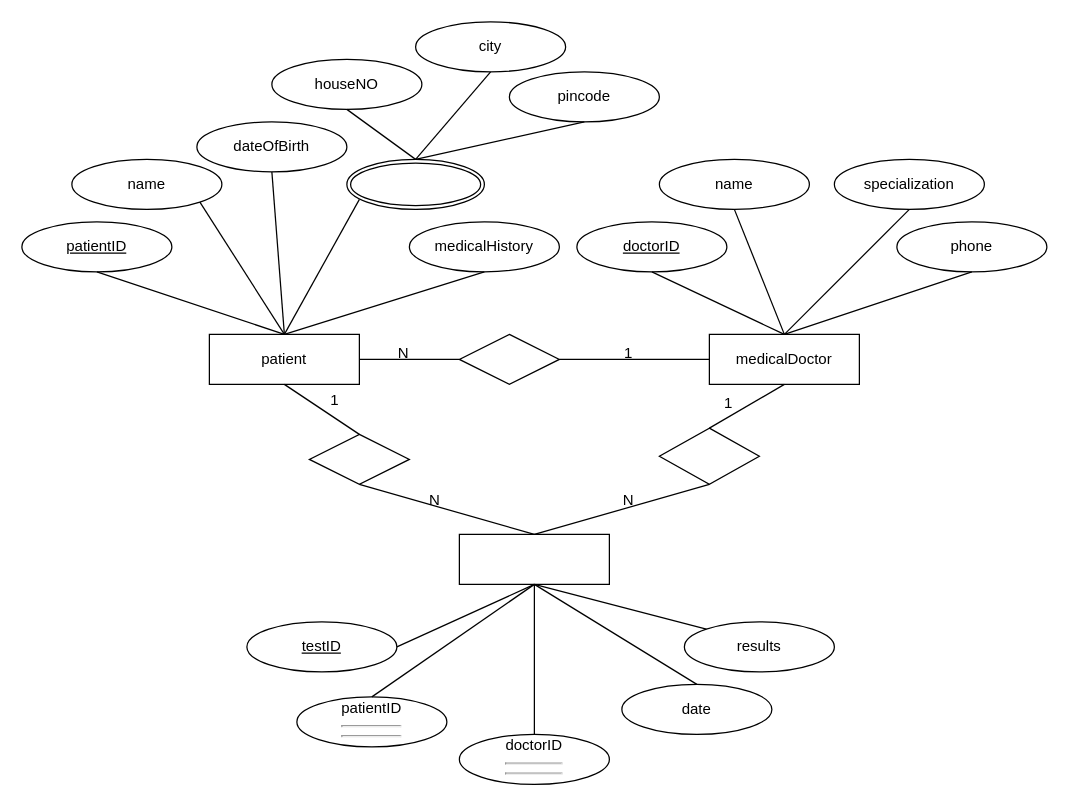
Some shapes in this 1069 by 806 pixel diagram are drawn without their labels. The box of each missing label's shape, as (x1, y1, x2, y2) in pixels:
address: (346, 158, 484, 209)
cunsults: (458, 333, 559, 384)
performs: (658, 427, 759, 484)
testExaminationLog: (458, 533, 609, 584)
undergoes: (308, 433, 409, 484)
